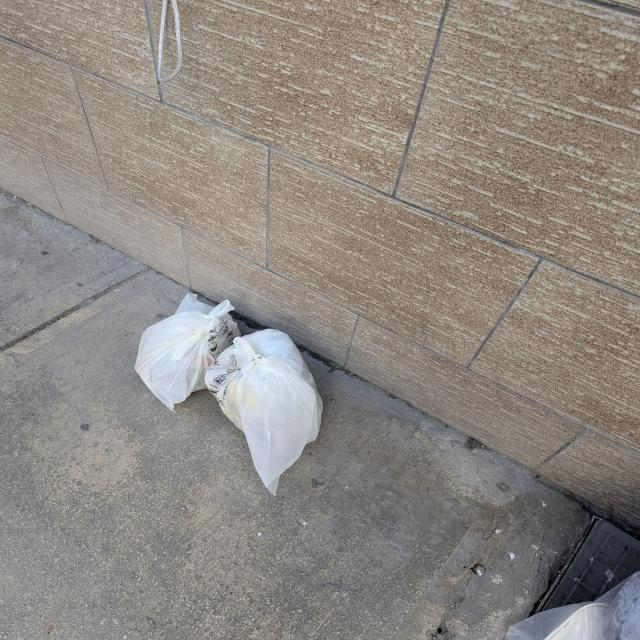Organic Waste: (204, 328, 325, 496), (135, 294, 242, 414)
